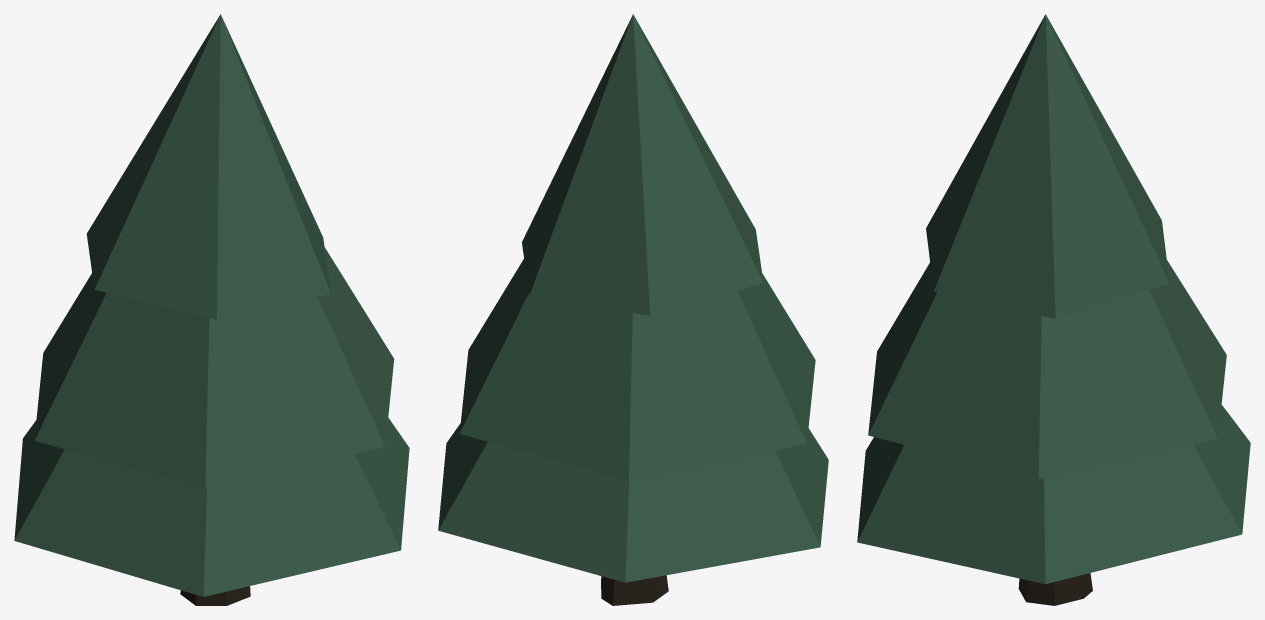
Rendered from Medium Pine.fbx.
3 renders of one model, left to right at view 1: azimuth 30°, elevation 25°; view 2: azimuth 150°, elevation 25°; view 3: azimuth 270°, elevation 25°, orthographic.
Parts seen in each view (by area): view 1: Pine_Tree8_pCone6; view 2: Pine_Tree8_pCone6; view 3: Pine_Tree8_pCone6.
Boxes of the visible parts, x1,y1,x2,y2 form: Pine_Tree8_pCone6: (14, 14, 409, 605); Pine_Tree8_pCone6: (438, 14, 828, 605); Pine_Tree8_pCone6: (857, 14, 1250, 605).
Size of the model in its own units: 4.29 by 6.16 by 3.8.
